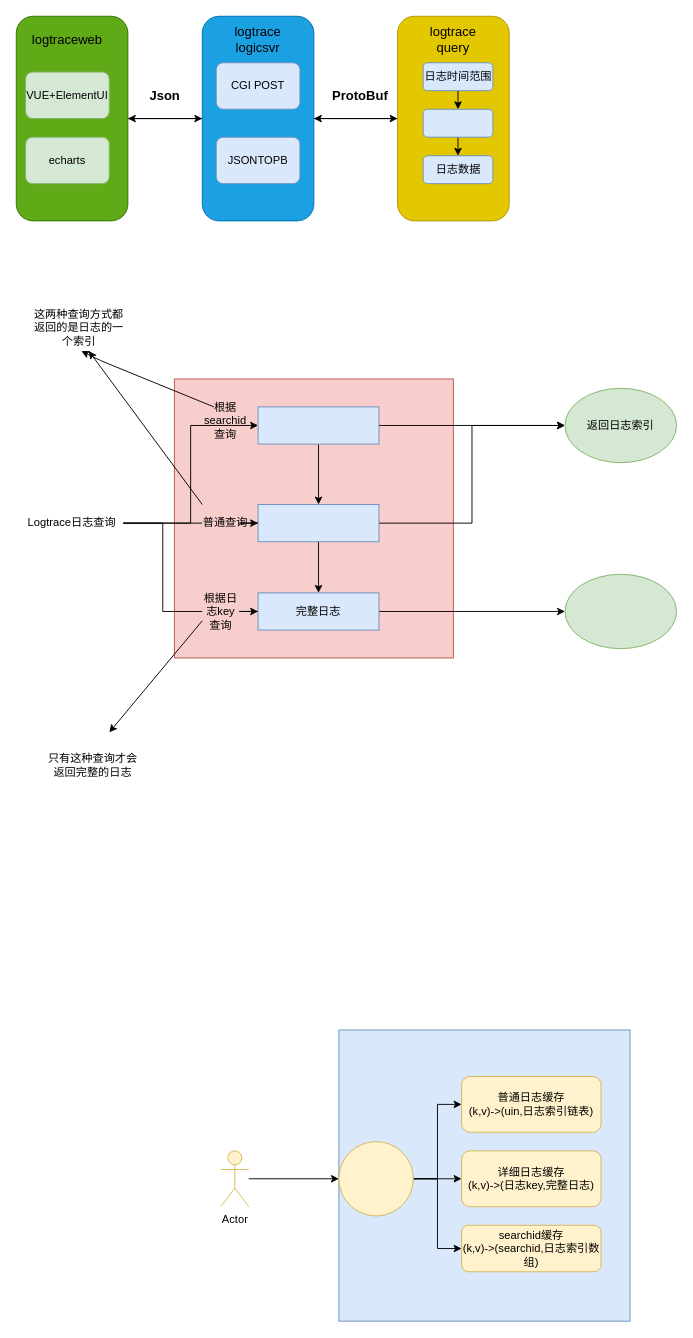
The diagram is 693 pixels wide and 1338 high, and some of its shapes have lost their labels. The shapes that lost their labels are listed below. From the top down, each one's centre as x and y in pixels, then its label:
At pixel 457 122: "日志index".
At pixel 318 425: "根据searchid搜索相关联的日志".
At pixel 318 523: "日志索引".
At pixel 620 611: "返回完整日志".
At pixel 375 1178: "logtrace web".
